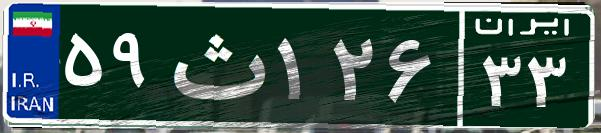1: (273, 28, 330, 110)
2: (330, 28, 385, 110)
3: (475, 38, 525, 113), (525, 38, 570, 115)
5: (57, 26, 110, 107)
6: (385, 28, 445, 110)
9: (110, 28, 158, 105)
ث: (158, 15, 273, 115)
